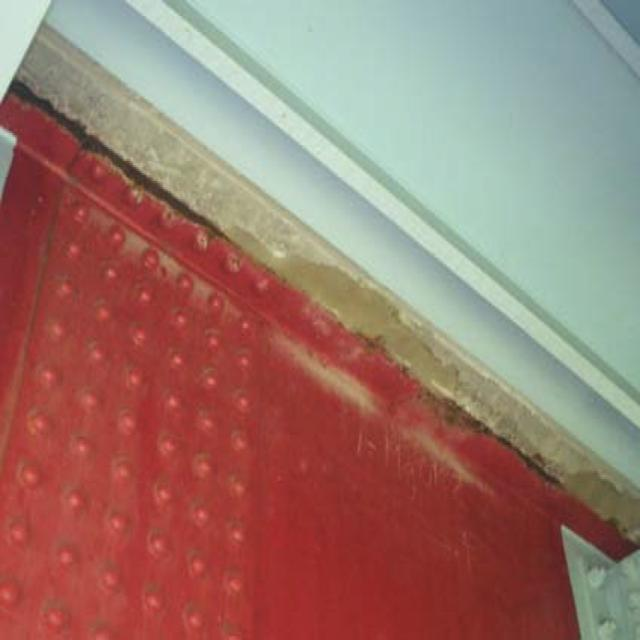corrosion: (16, 77, 590, 516)
